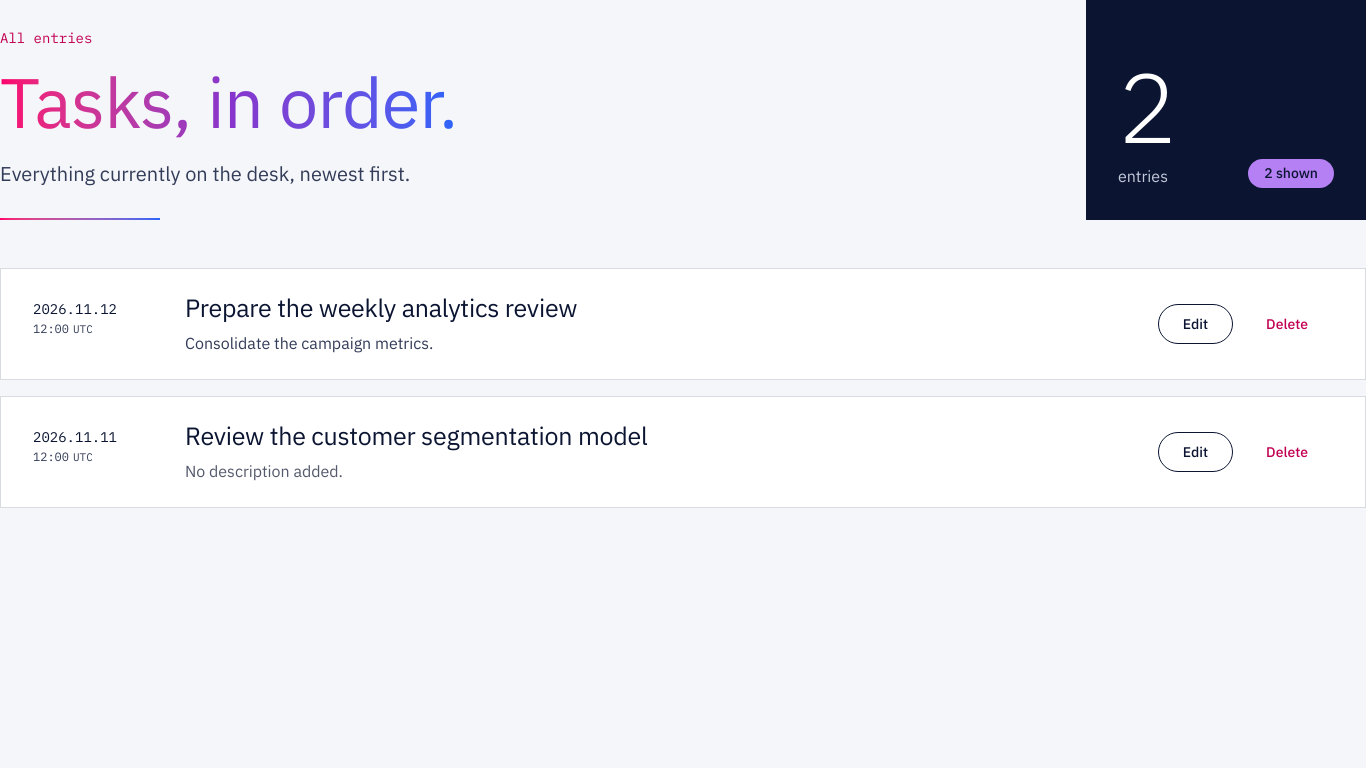
it: TaskList › asks for confirmation before deleting a task
Click the button "Delete" in the row of "Prepare the weekly analytics review": (1287, 324) [1241,304,1333,344]
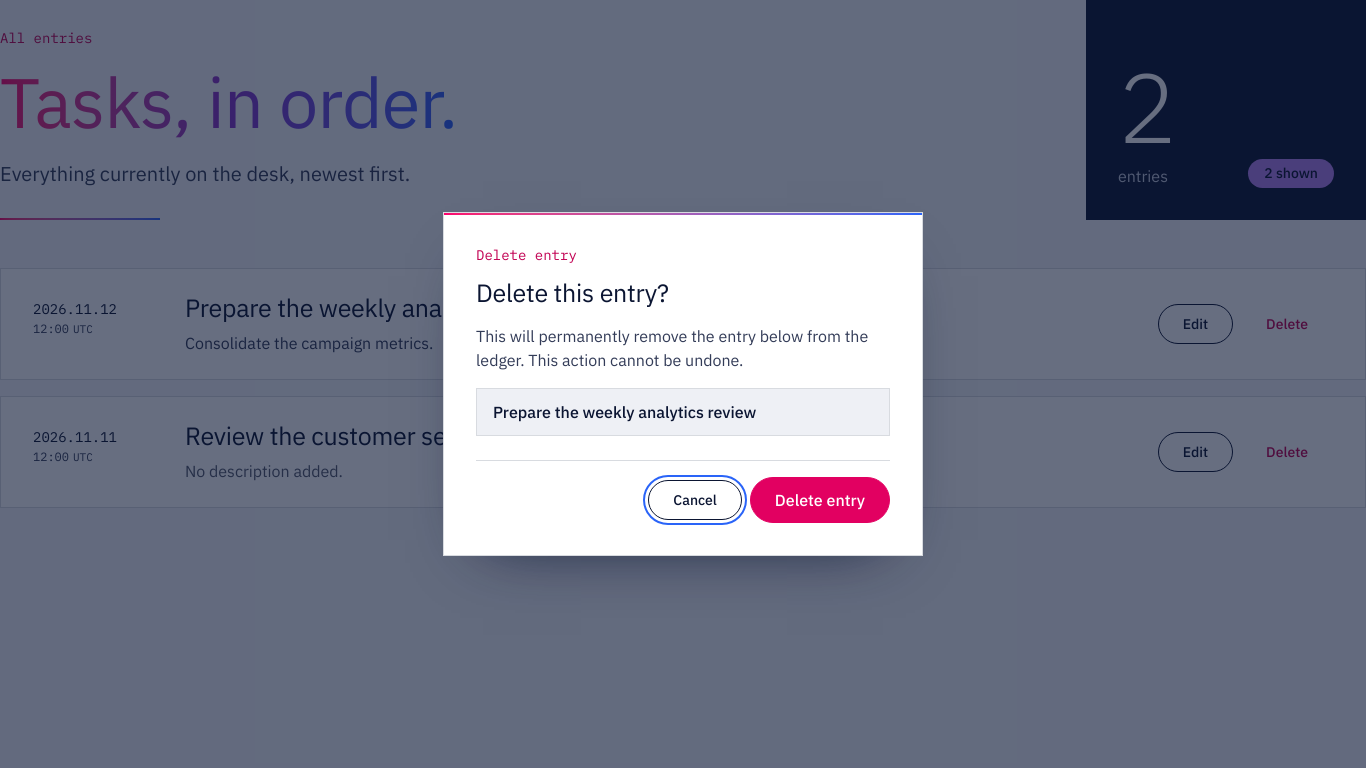
expect the text "Prepare the weekly analytics review" is shown: met, box [476,388,890,436]
Click the button "Delete entry": (820, 500) [750,478,890,524]
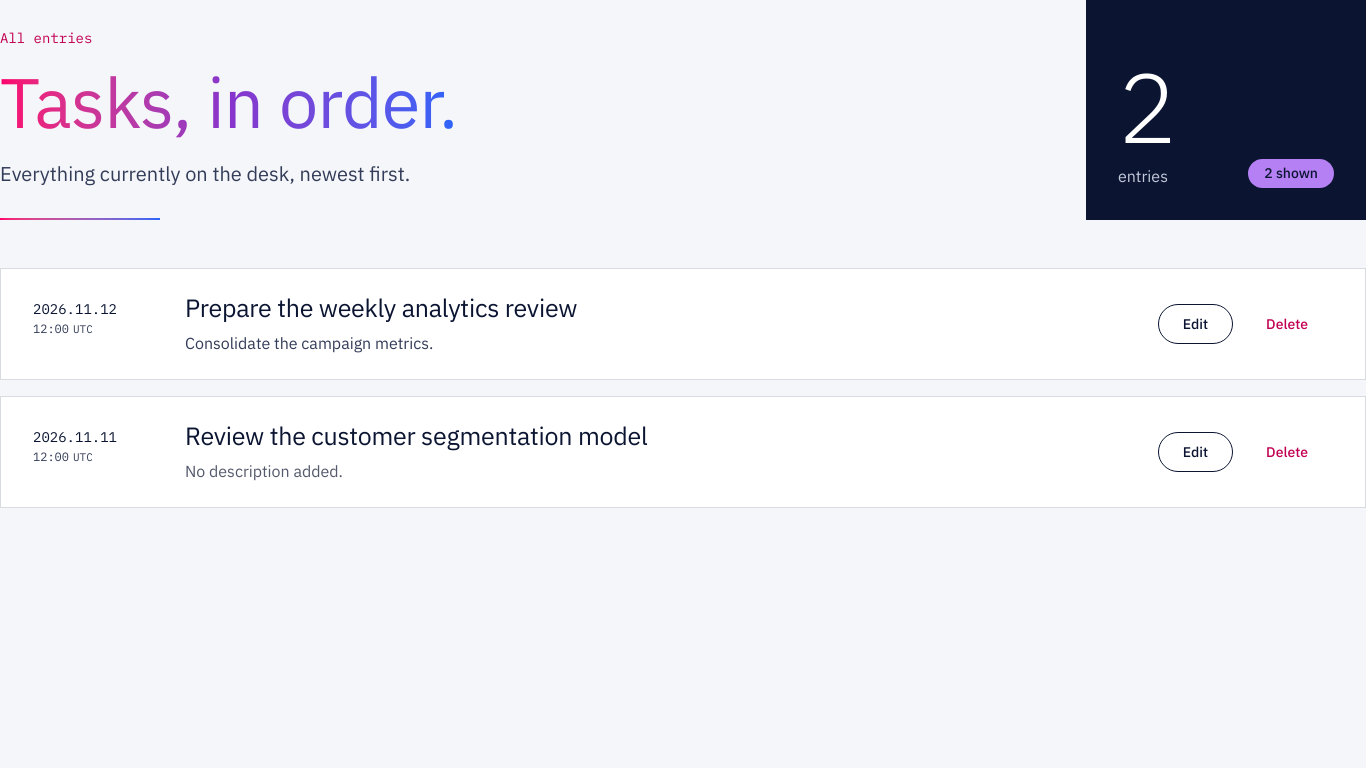
expect the dialog is gone: met
